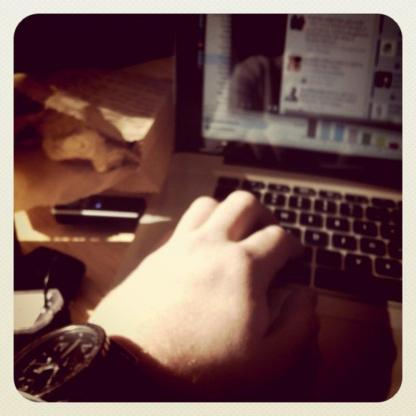board: (116, 13, 403, 402)
